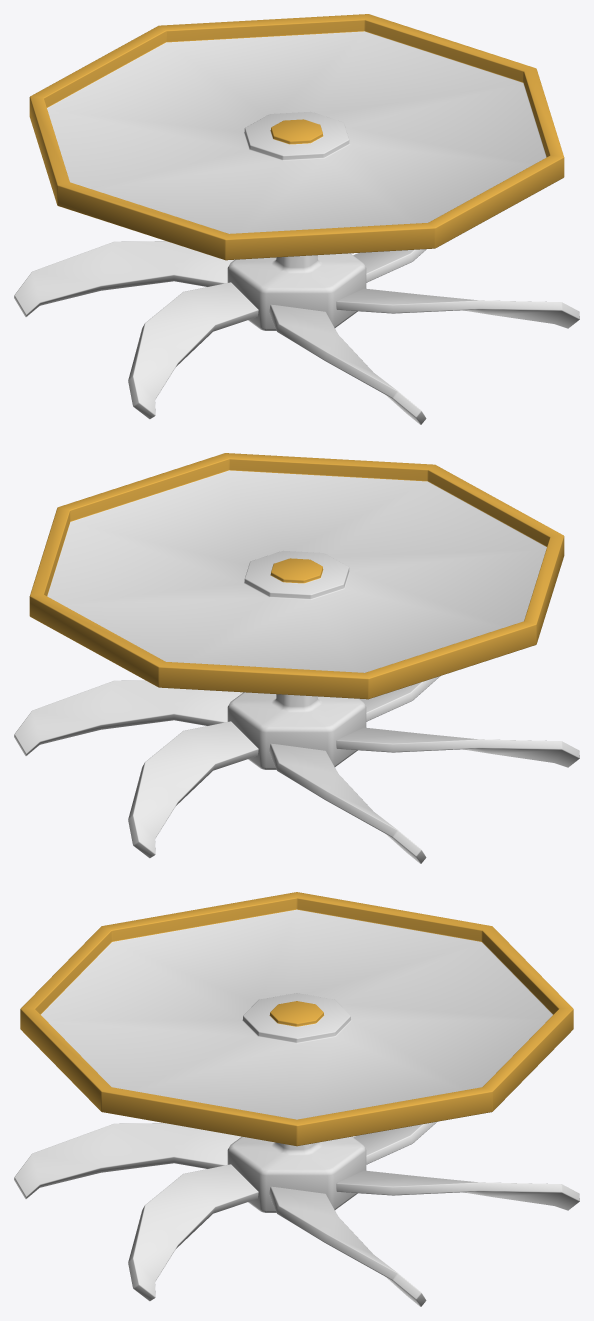
Rendered from hover_platform.fbx.
3 renders of one model, top to bottom at view 1: azimuth 30°, elevation 25°; view 2: azimuth 150°, elevation 25°; view 3: azimuth 270°, elevation 25°, orthographic.
Visible parts, largest first — view 1: Cube, RA - RA - Plane.001 - 0 - 4, RA - RA - Plane.001 - 0 - 5, fanblade_column, RA - RA - Plane.001 - 0 - 1, RA - RA - Plane.001 - 0 - 0, RA - RA - Plane.001 - 0 - 2; view 2: Cube, RA - RA - Plane.001 - 0 - 2, RA - RA - Plane.001 - 0 - 3, fanblade_column, RA - RA - Plane.001 - 0 - 5, RA - RA - Plane.001 - 0 - 4, RA - RA - Plane.001 - 0 - 0; view 3: Cube, RA - RA - Plane.001 - 0 - 0, RA - RA - Plane.001 - 0 - 1, fanblade_column, RA - RA - Plane.001 - 0 - 3, RA - RA - Plane.001 - 0 - 2, RA - RA - Plane.001 - 0 - 4.
Part boxes in pixels (x1,y1,x2,y2): Cube: (29,14,564,260); RA - RA - Plane.001 - 0 - 4: (14,241,234,316); RA - RA - Plane.001 - 0 - 5: (128,282,258,419); fanblade_column: (227,253,366,330); RA - RA - Plane.001 - 0 - 1: (336,288,579,328); RA - RA - Plane.001 - 0 - 0: (269,304,426,424); RA - RA - Plane.001 - 0 - 2: (353,249,426,282); Cube: (29,453,564,699); RA - RA - Plane.001 - 0 - 2: (14,680,242,755); RA - RA - Plane.001 - 0 - 3: (128,721,258,858); fanblade_column: (227,692,366,769); RA - RA - Plane.001 - 0 - 5: (336,727,579,767); RA - RA - Plane.001 - 0 - 4: (269,743,426,863); RA - RA - Plane.001 - 0 - 0: (359,676,440,721); Cube: (20,892,573,1146); RA - RA - Plane.001 - 0 - 0: (14,1123,241,1198); RA - RA - Plane.001 - 0 - 1: (128,1164,258,1301); fanblade_column: (227,1136,366,1212); RA - RA - Plane.001 - 0 - 3: (336,1170,579,1210); RA - RA - Plane.001 - 0 - 2: (269,1186,426,1306); RA - RA - Plane.001 - 0 - 4: (353,1121,437,1164).
Size of the model in its own units: 600 by 235 by 613.
